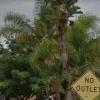Palm tree: (27, 4, 79, 71)
